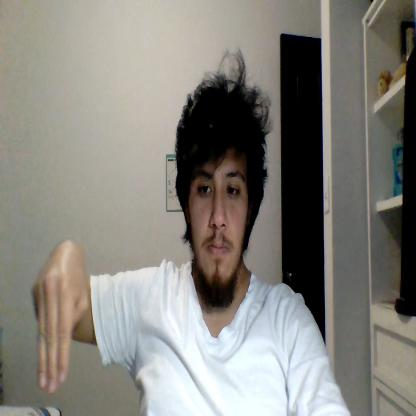M: (32, 239, 88, 394)
